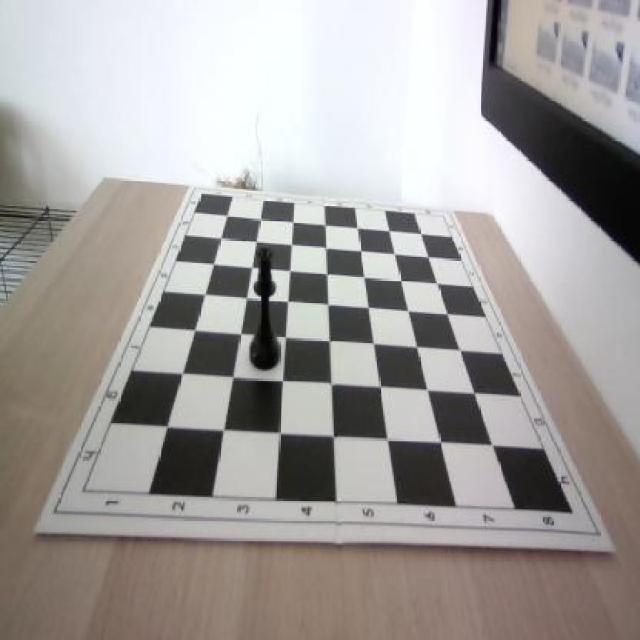black-pawn: (246, 246, 282, 372)
